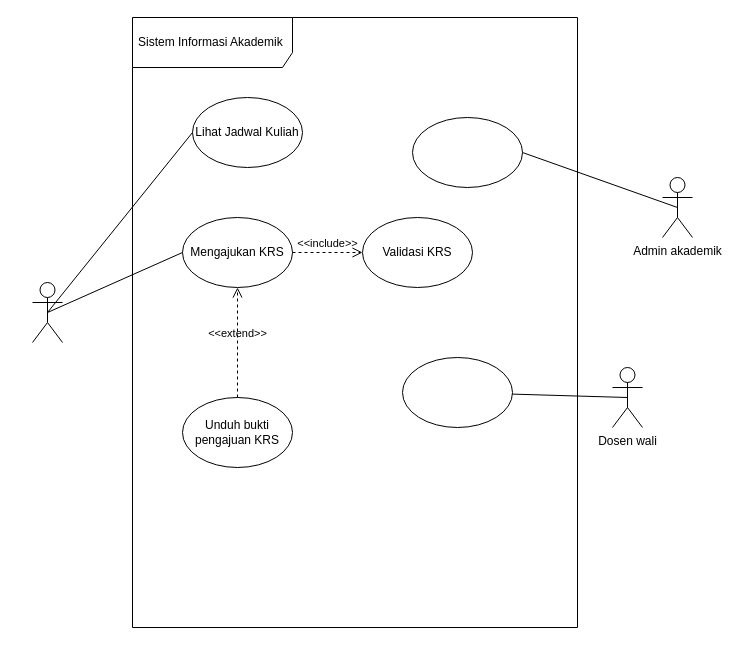
Image size: 739x645. Some labels were removed from this diagram. Here are the shapes that lost their labels. From the top down, the centre of each, then its label:
At (x=467, y=152): "Mengelola Jadwal Kuliah".
At (x=47, y=312): "Mahasiswa".
At (x=457, y=392): "Proses Keputusan KRS".
